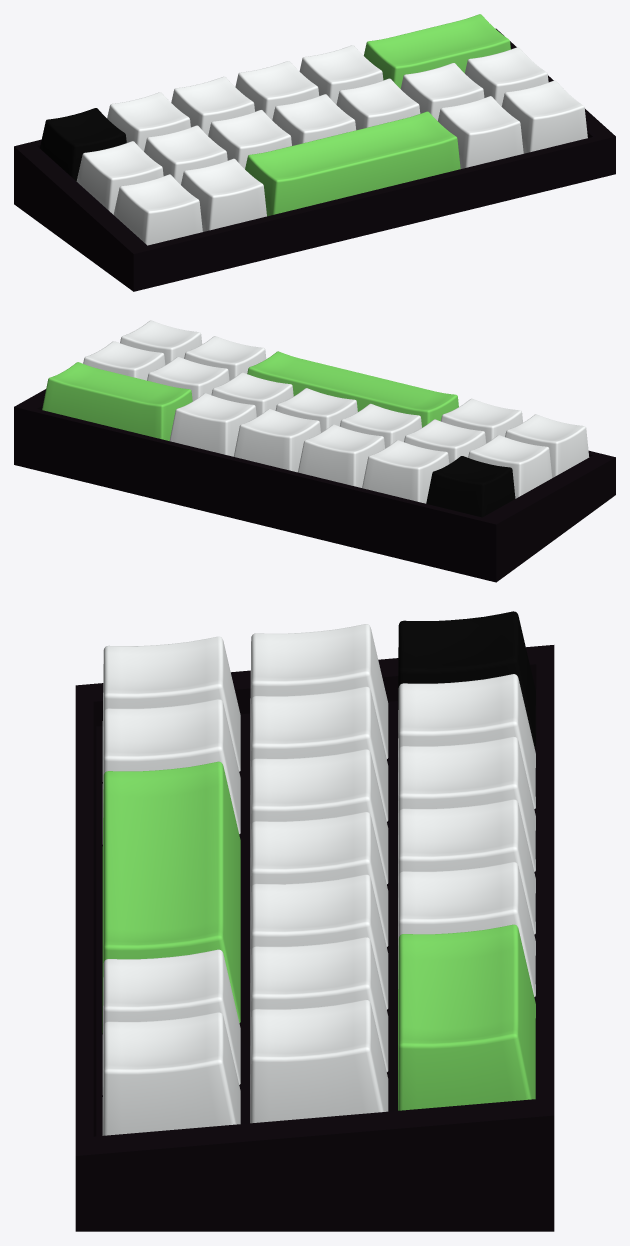
File: Keyboard.fbx
3 renders of one model, top to bottom at view 1: azimuth 30°, elevation 25°; view 2: azimuth 150°, elevation 25°; view 3: azimuth 270°, elevation 25°, orthographic. The views are drawn at different scales.
Visible parts, largest first — view 1: Plane.001, Plane; view 2: Plane.001, Plane; view 3: Plane.001, Plane.
Boxes of the visible parts, x1,y1,x2,y2 form: Plane.001: (39,14,587,245); Plane: (14,28,615,291); Plane.001: (42,320,589,517); Plane: (14,389,615,582); Plane.001: (102,611,535,1135); Plane: (75,645,554,1231).
Bounding box in the file's own units: 465 × 79.36 × 200.
